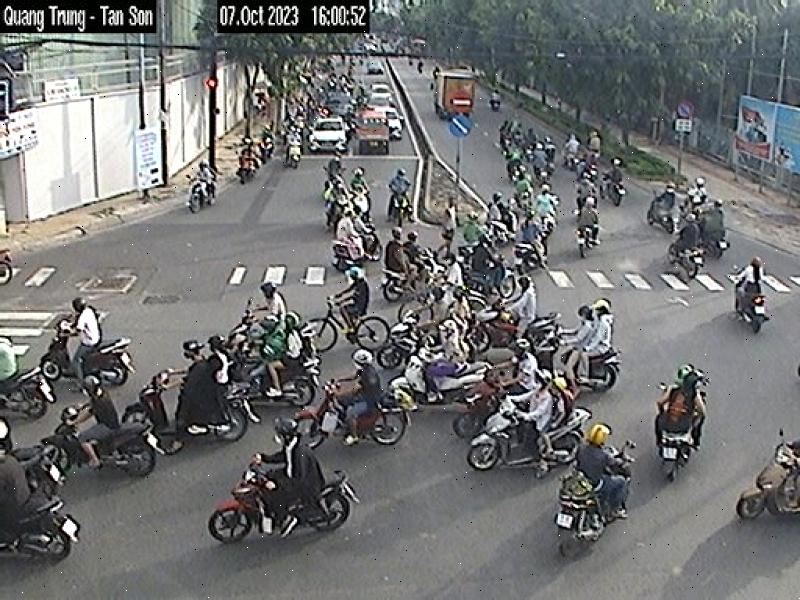car: (310, 117, 354, 154), (366, 77, 394, 109), (366, 53, 390, 84), (389, 105, 407, 145)
motorcycle: (203, 460, 370, 540), (123, 373, 263, 444), (283, 385, 417, 448), (472, 399, 587, 472), (37, 409, 162, 472), (42, 316, 136, 386), (746, 429, 796, 548), (537, 330, 622, 396), (650, 405, 718, 486), (394, 353, 487, 401), (34, 496, 87, 570), (735, 459, 798, 520), (555, 471, 607, 544), (0, 365, 59, 423), (252, 357, 326, 402), (666, 218, 707, 294), (12, 445, 72, 494), (376, 256, 446, 295), (386, 312, 426, 377), (728, 276, 765, 336), (327, 228, 385, 266), (512, 235, 552, 278), (347, 184, 383, 221), (574, 215, 602, 261), (384, 181, 414, 223), (416, 56, 427, 83)
truck: (435, 69, 480, 134)
